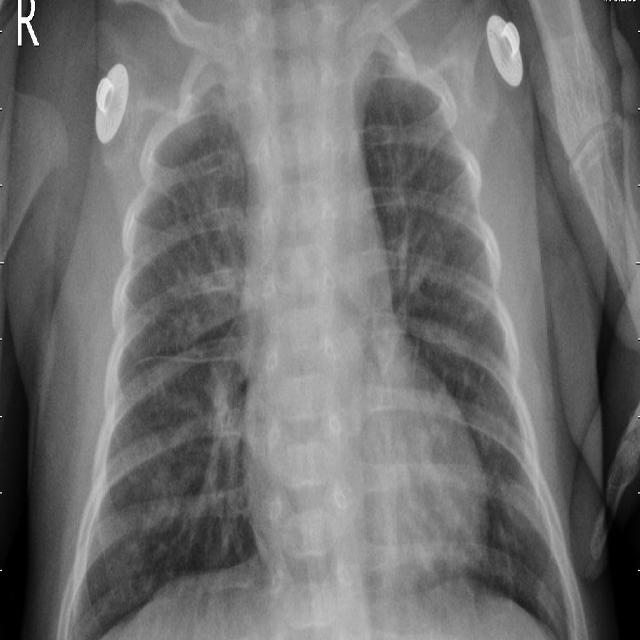low-pneumonia: (192, 250, 247, 493), (389, 211, 447, 346), (184, 48, 245, 143)
